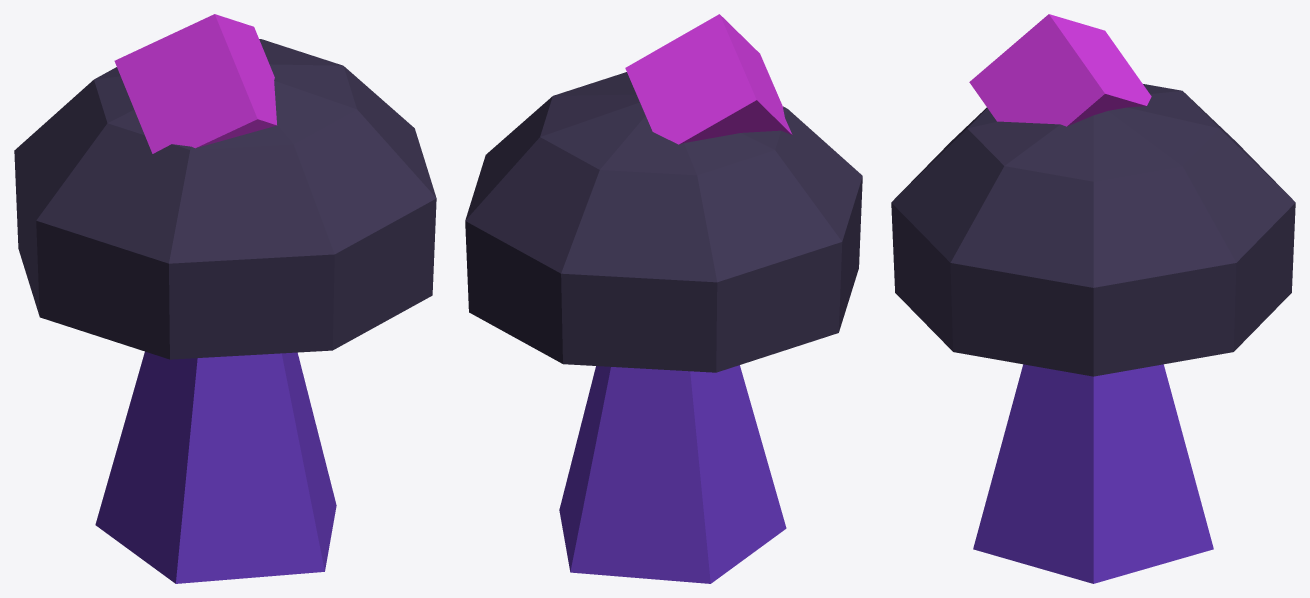
File: env_r16_hovering_rock.glb
3 views of the same model, side by side, from view 1: azimuth 30°, elevation 25°; view 2: azimuth 150°, elevation 25°; view 3: azimuth 270°, elevation 25° (orthographic). The views are drawn at different scales.
Visible parts, largest first — view 1: env_r16_hovering_rock; view 2: env_r16_hovering_rock; view 3: env_r16_hovering_rock.
Boxes of the visible parts, <box> form: env_r16_hovering_rock: <box>14,14,436,583</box>; env_r16_hovering_rock: <box>465,14,862,583</box>; env_r16_hovering_rock: <box>891,14,1295,583</box>.
Bounding box in the file's own units: 1.6 × 2.2 × 1.6.
1 material, 1 textured.
